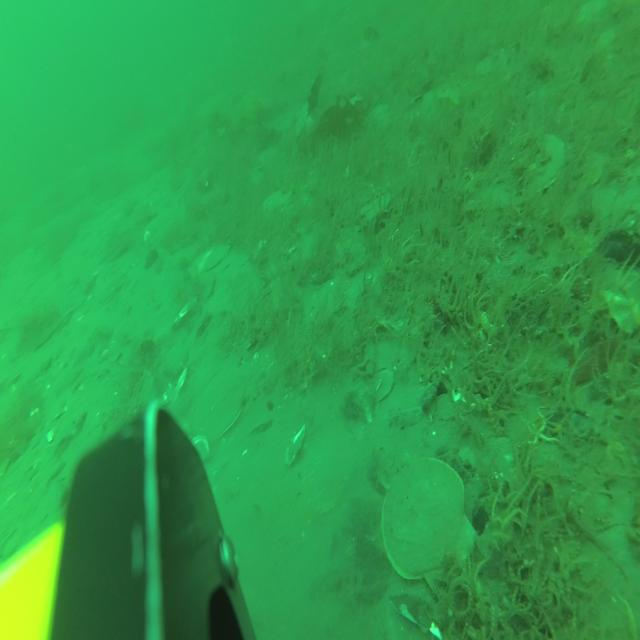scallop: (380, 456, 476, 598), (305, 423, 359, 514), (195, 364, 251, 440), (529, 132, 566, 193), (194, 242, 230, 273), (262, 192, 291, 218)
